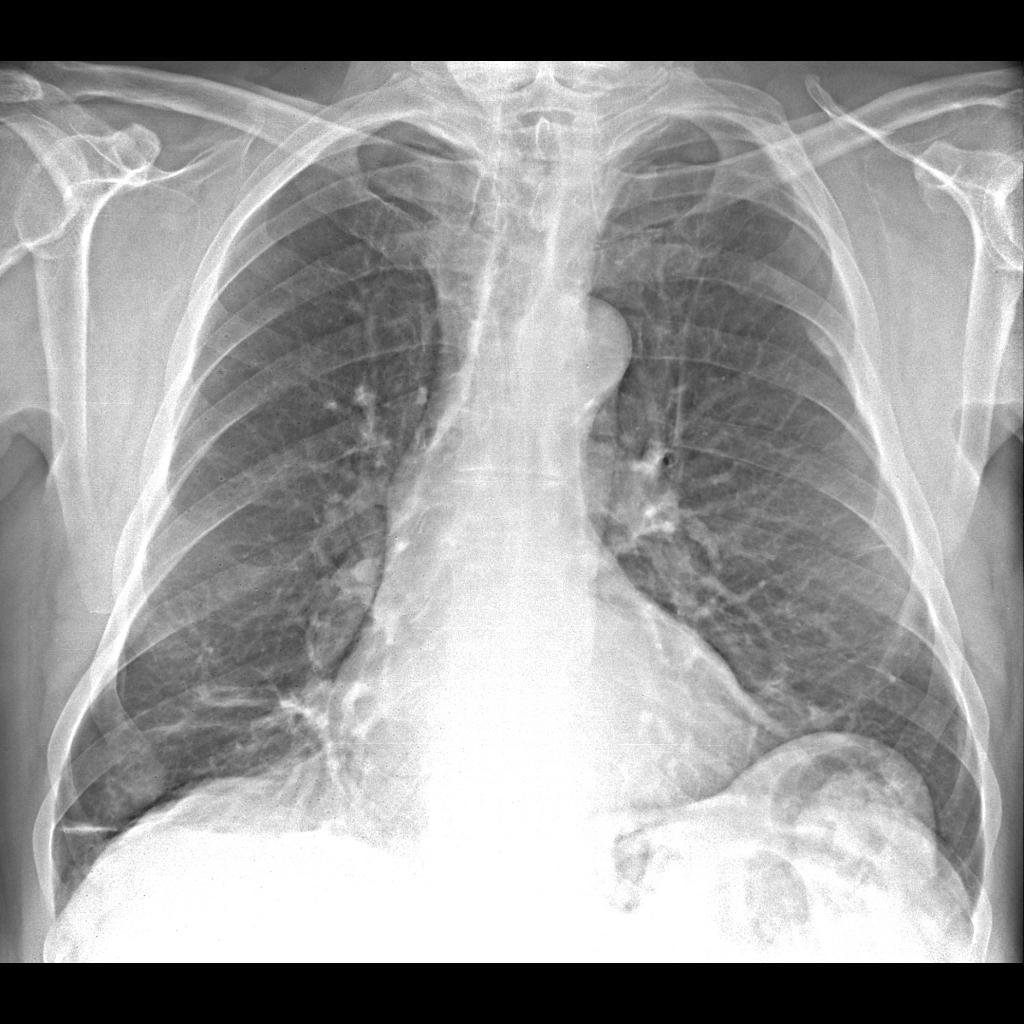Nodule: (109, 741, 180, 817)
